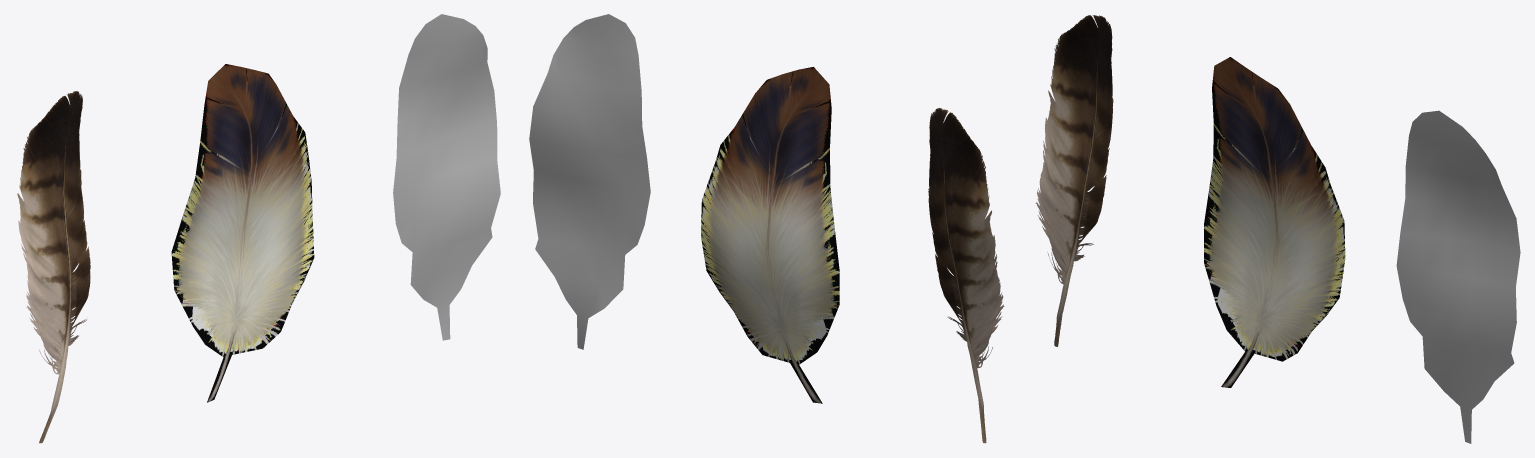
The model's file is great feather.fbx.
The picture shows the model from 3 angles, left to right: view 1: azimuth 30°, elevation 25°; view 2: azimuth 150°, elevation 25°; view 3: azimuth 330°, elevation 25°; orthographic projection. The views are drawn at different scales.
Visible parts, largest first — view 1: sparrow feather, fairy feather, eagle feather; view 2: sparrow feather, fairy feather, eagle feather; view 3: sparrow feather, fairy feather, eagle feather.
Part boxes in pixels (left/top/right/bottom): sparrow feather: left=171, top=64, right=314, bottom=402; fairy feather: left=393, top=14, right=500, bottom=340; eagle feather: left=17, top=91, right=90, bottom=443; sparrow feather: left=701, top=67, right=839, bottom=403; fairy feather: left=529, top=14, right=650, bottom=349; eagle feather: left=928, top=108, right=1004, bottom=443; sparrow feather: left=1204, top=57, right=1345, bottom=387; fairy feather: left=1396, top=110, right=1520, bottom=443; eagle feather: left=1035, top=15, right=1113, bottom=346.
Size of the model in its own units: 148 by 100 by 10.13.
